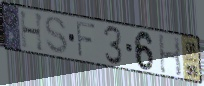3: (102, 24, 124, 67)
6: (133, 29, 157, 72)
F: (75, 19, 98, 60)
H: (18, 9, 45, 54), (157, 32, 183, 78)
S: (44, 15, 70, 56)
